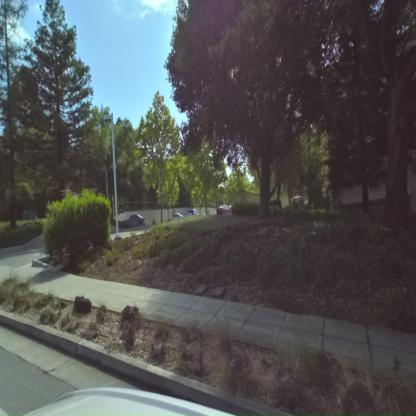bus: (216, 200, 233, 218)
car: (127, 209, 147, 230), (165, 210, 182, 226), (186, 206, 199, 221)
